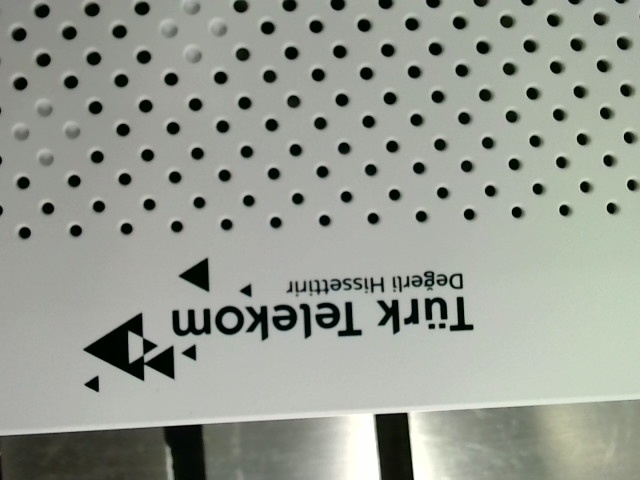AQ_TURKTelekom: (72, 252, 481, 392)
